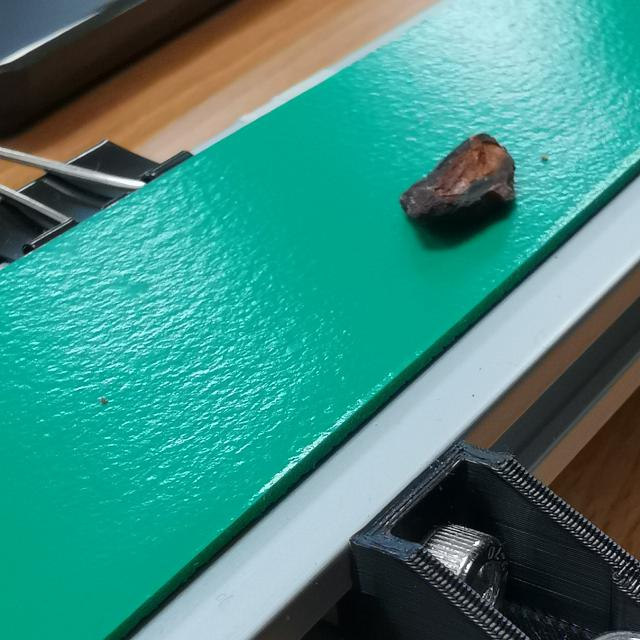Flat_cocoabeans: (378, 91, 562, 299)
